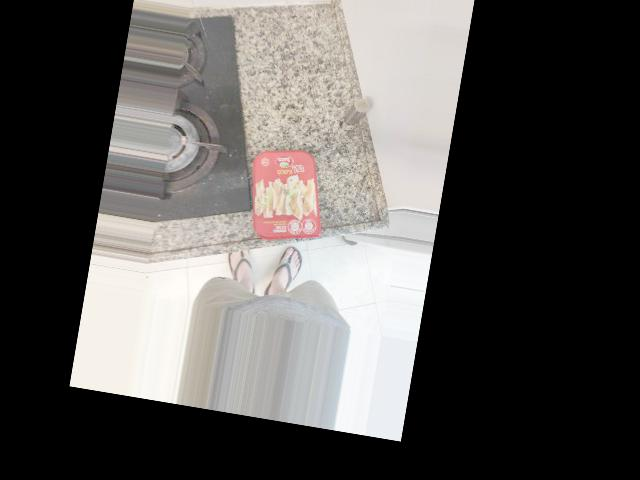cheese: (239, 42, 337, 168)
